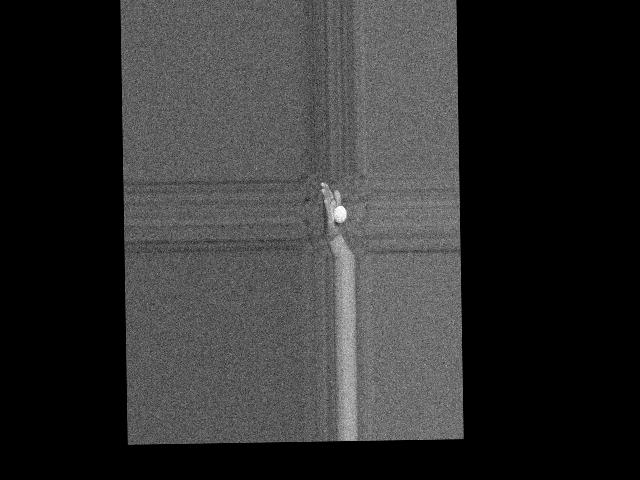egg: (333, 206, 347, 223)
